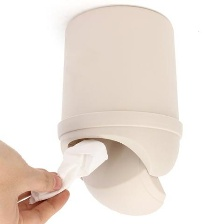plastic_box: (51, 0, 187, 224)
tissue: (21, 135, 113, 209)
